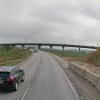Car: (1, 59, 29, 95)
